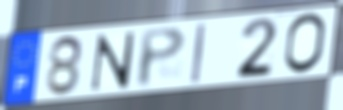2: (237, 16, 280, 79)
8: (43, 34, 85, 99)
I: (190, 22, 208, 85)
N: (88, 30, 138, 93)
O: (282, 11, 328, 76)
P: (136, 24, 188, 89)
